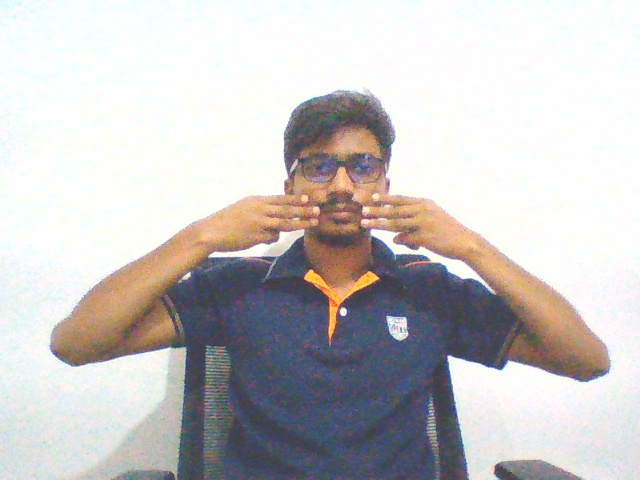cat: (190, 181, 483, 266)
